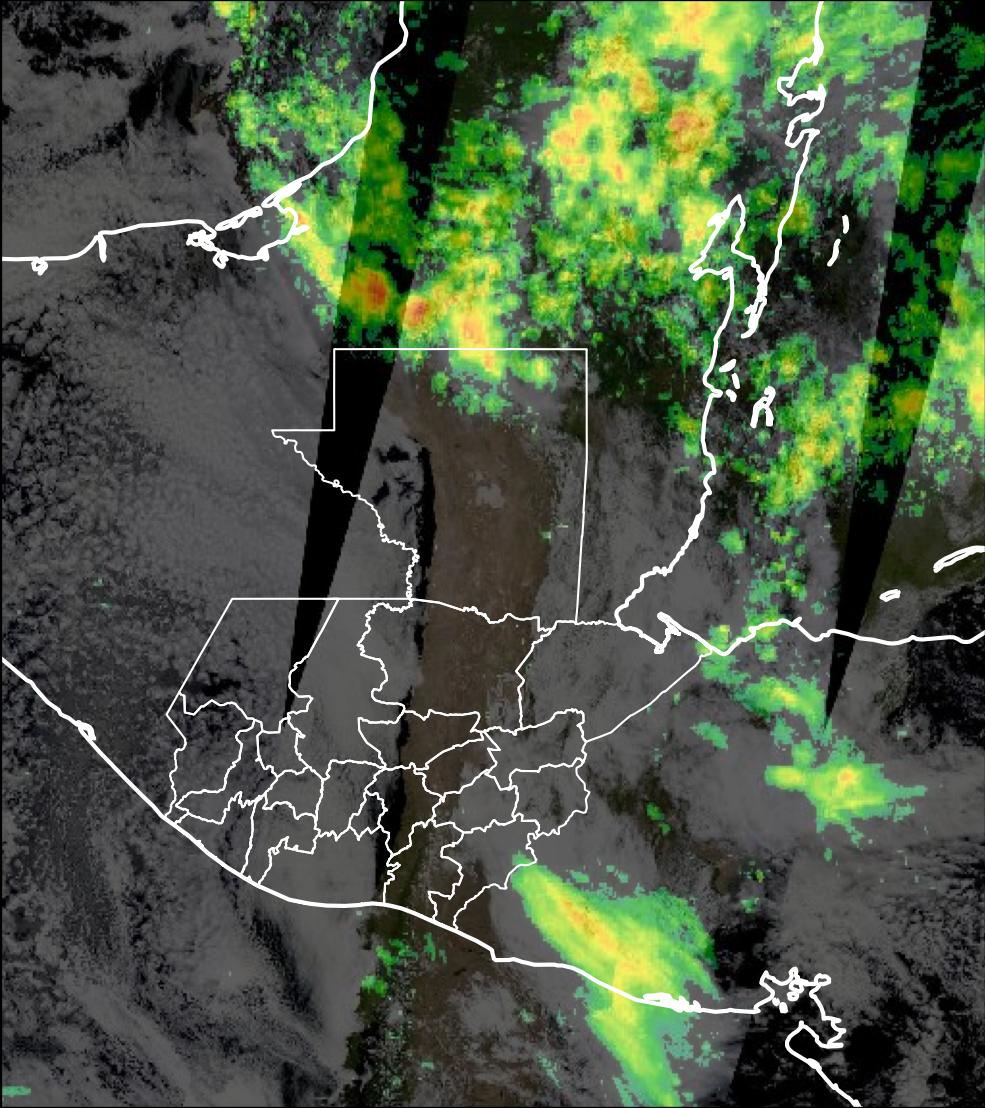precipitacion: (343, 258, 554, 381)
